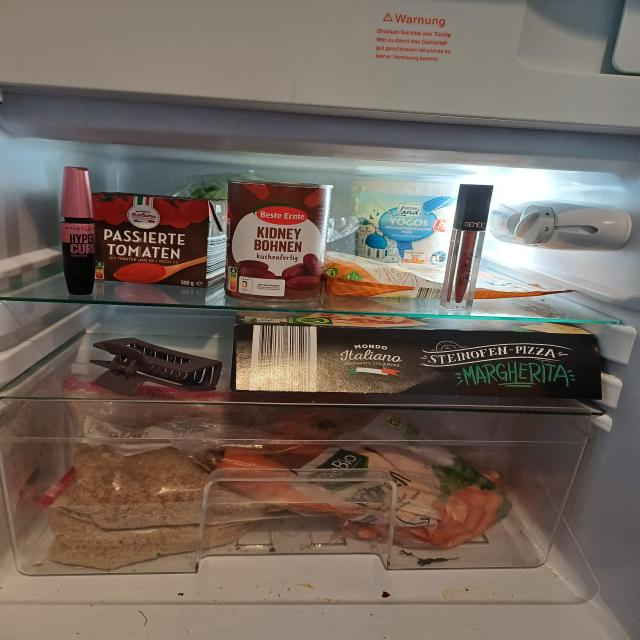Beans: (224, 173, 331, 309)
Cheese: (318, 246, 553, 304)
Hair clip: (85, 334, 229, 395)
Lipstick: (445, 180, 502, 316)
Masscara: (50, 160, 104, 301)
Pizza: (234, 312, 606, 405)
Plastic bag: (53, 406, 220, 561)
Tomato Puree: (88, 186, 226, 288)
Yogurt: (355, 172, 462, 270)
carrot: (202, 417, 512, 546)
